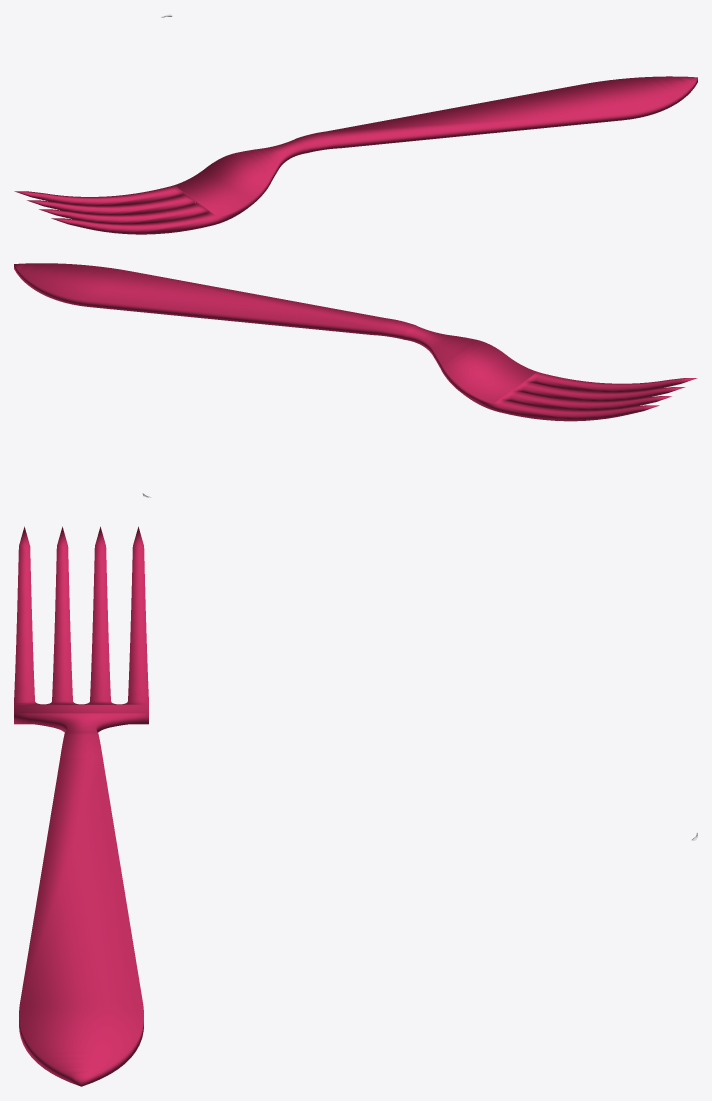
Rendered from fork_red_plastic.dae.
3 views of the same model, one above another, from view 1: azimuth 30°, elevation 25°; view 2: azimuth 150°, elevation 25°; view 3: azimuth 270°, elevation 25° (orthographic). The views are drawn at different scales.
Visible parts, largest first — view 1: group_0; view 2: group_0; view 3: group_0.
Part boxes in pixels (box(x1,y1,x2,y2)): group_0: box(14, 76, 697, 234); group_0: box(14, 263, 697, 421); group_0: box(14, 526, 148, 1086).
Size of the model in its own units: 0.21 by 0.1216 by 0.013.
